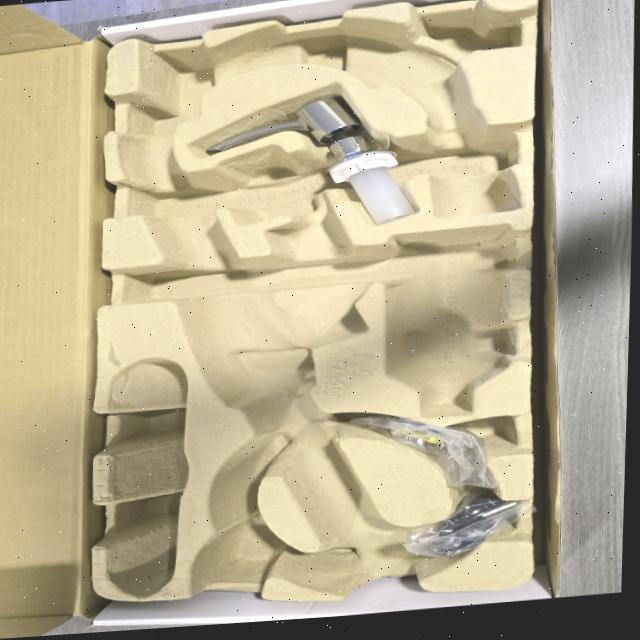1m: (117, 22, 523, 598)
2: (202, 96, 417, 226)
3m: (383, 225, 512, 418)
4m: (108, 359, 189, 596)
5m: (206, 521, 280, 572)
6: (348, 412, 493, 485)
7: (408, 495, 527, 557)
